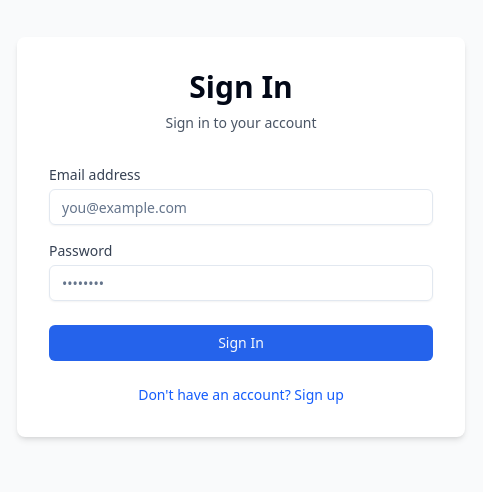
Test: LoginForm › displays generic error for unknown errors
The width and height of the screenshot is (483, 492).
In the field labelled "Email address": (241, 207) top-left (49, 189), bottom-right (433, 225), type "test@example.com"
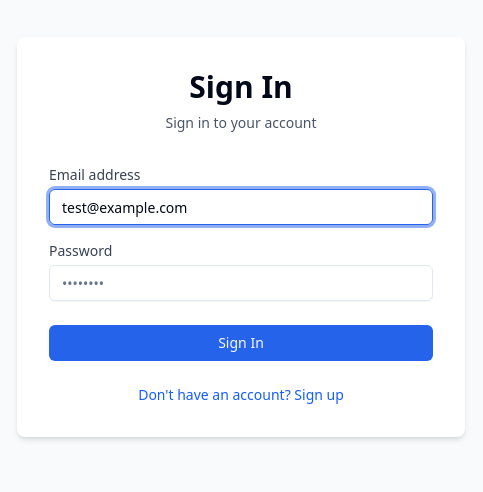
In the password field labelled "Password": (241, 283) top-left (49, 265), bottom-right (433, 301), type "password123"
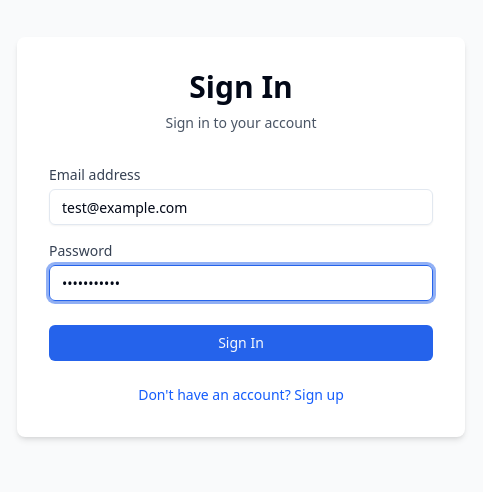
Click the button "Sign In": (241, 343) top-left (49, 325), bottom-right (433, 361)
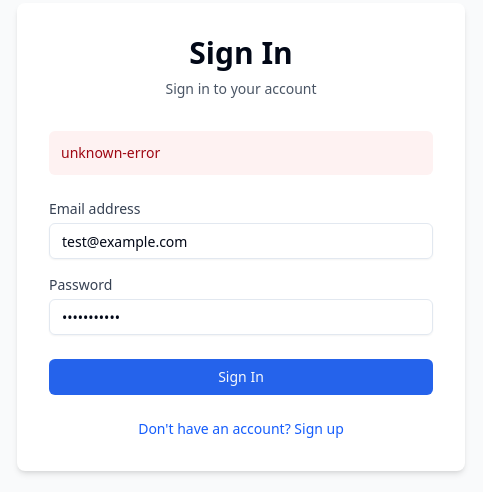
Expected: the text "unknown-error" is shown, top-left (49, 131), bottom-right (433, 175)
